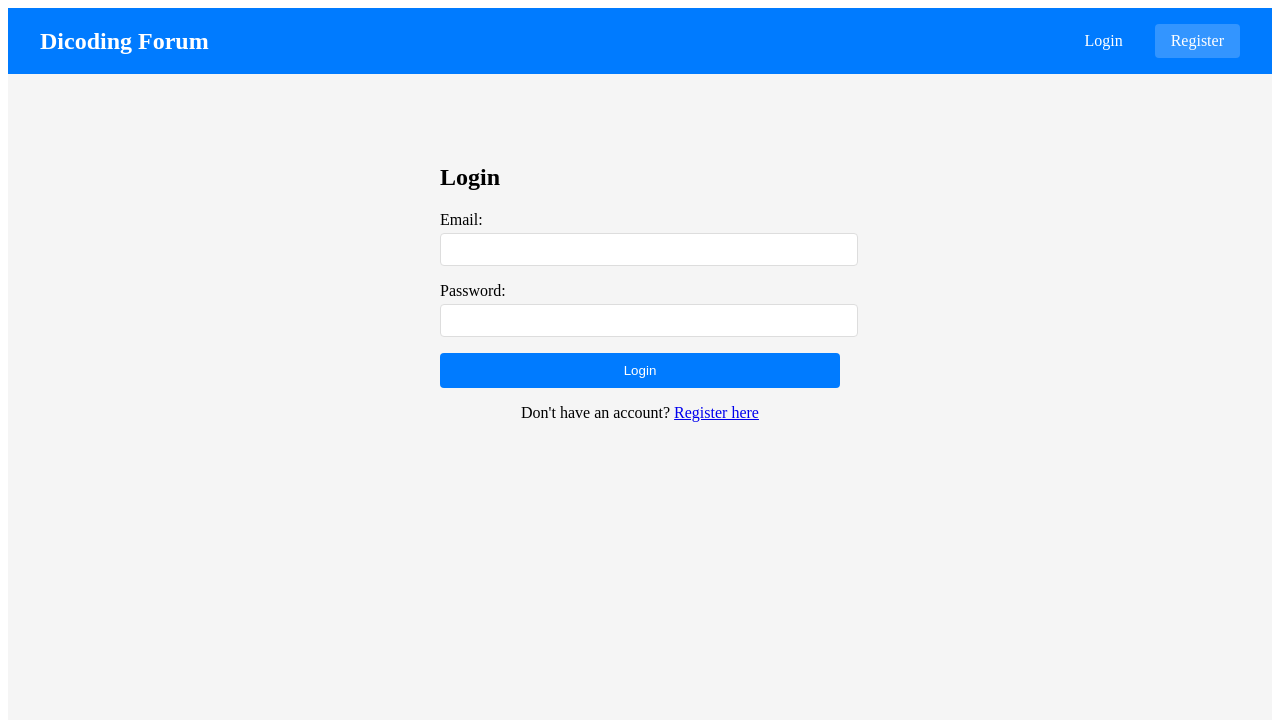
Login Flow › should navigate to register page when register link is clicked
Click the link "Register here". click: (717, 413)
box: [674,404,759,421]
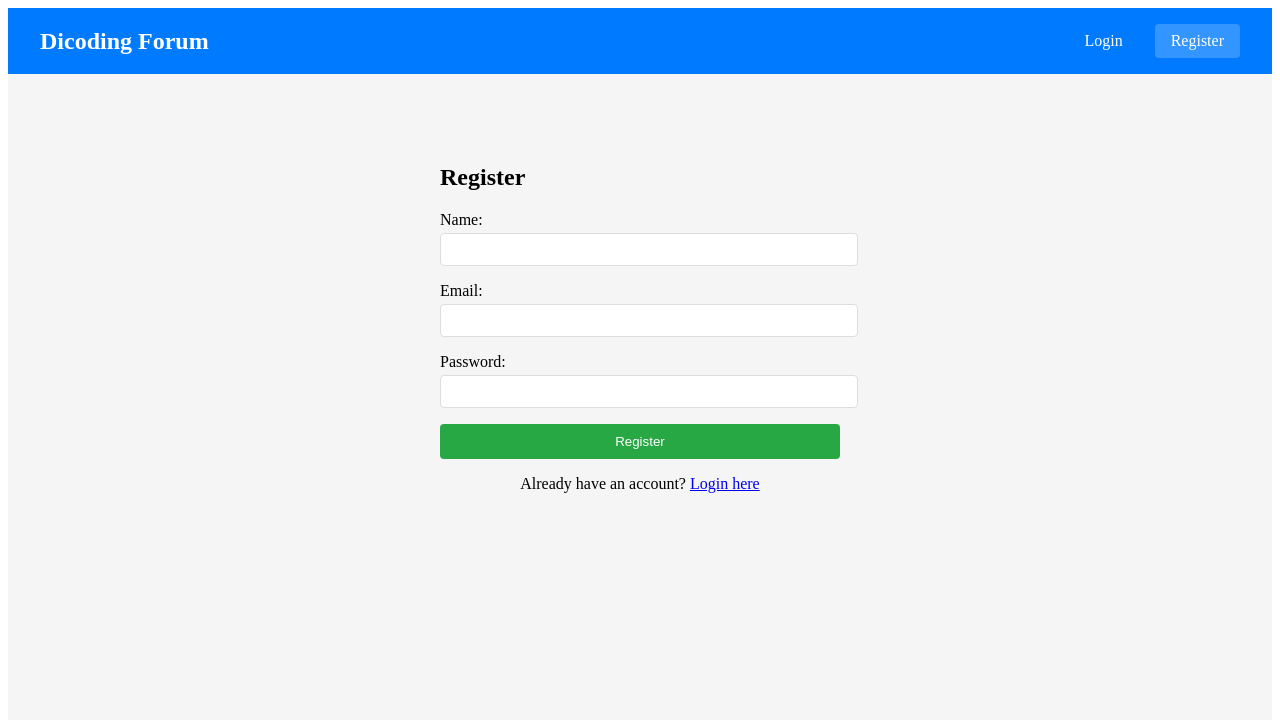
Now the heading "Register" is shown, box [440,164,525,190]
